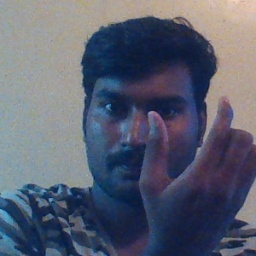U: (137, 93, 256, 241)
